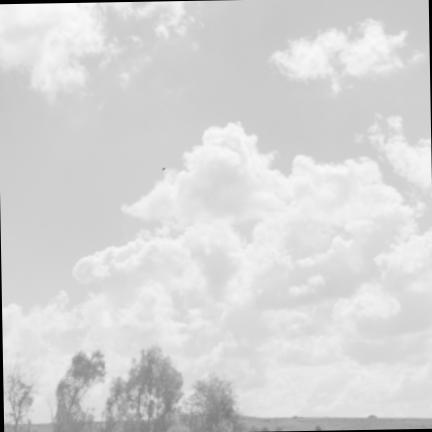Shahed: (162, 167, 166, 170)
